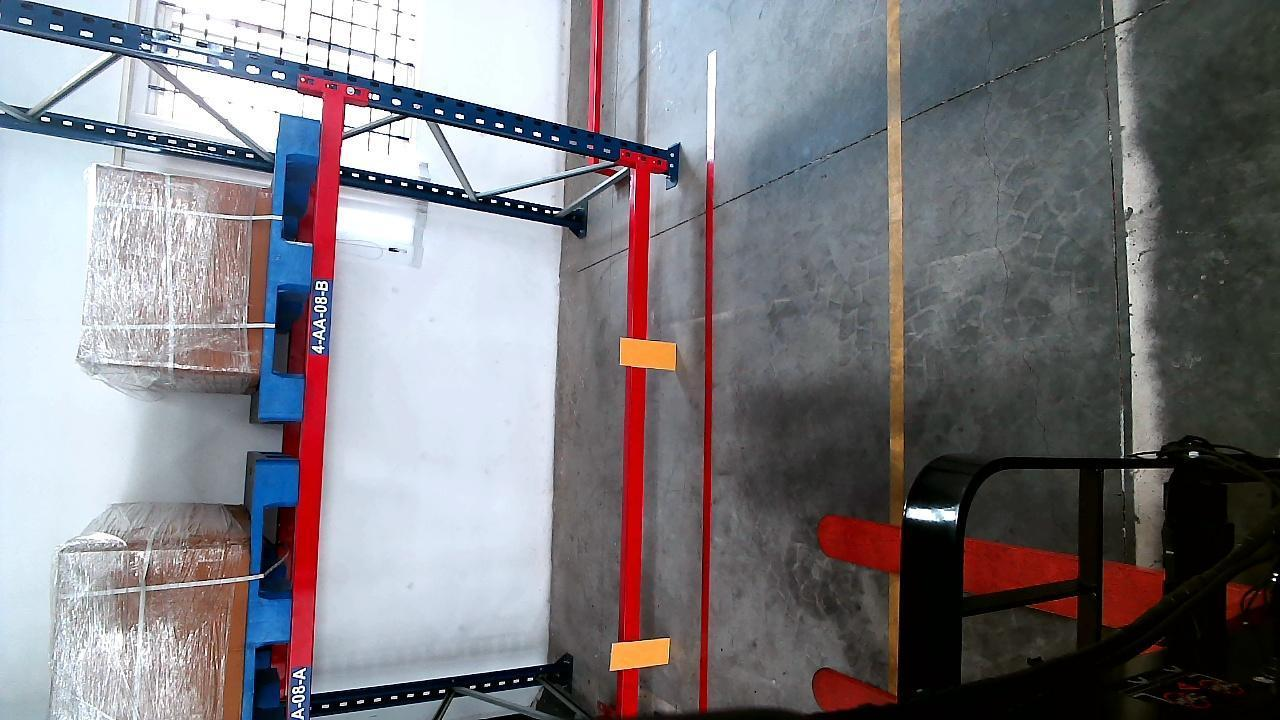h_rack: (286, 96, 345, 720), (619, 168, 653, 720)
orange_strip: (612, 636, 673, 671), (622, 338, 678, 368)
red_line: (695, 126, 717, 710)
small_pallet: (263, 111, 319, 417), (247, 464, 297, 720)
yellow_line: (885, 0, 911, 505)
